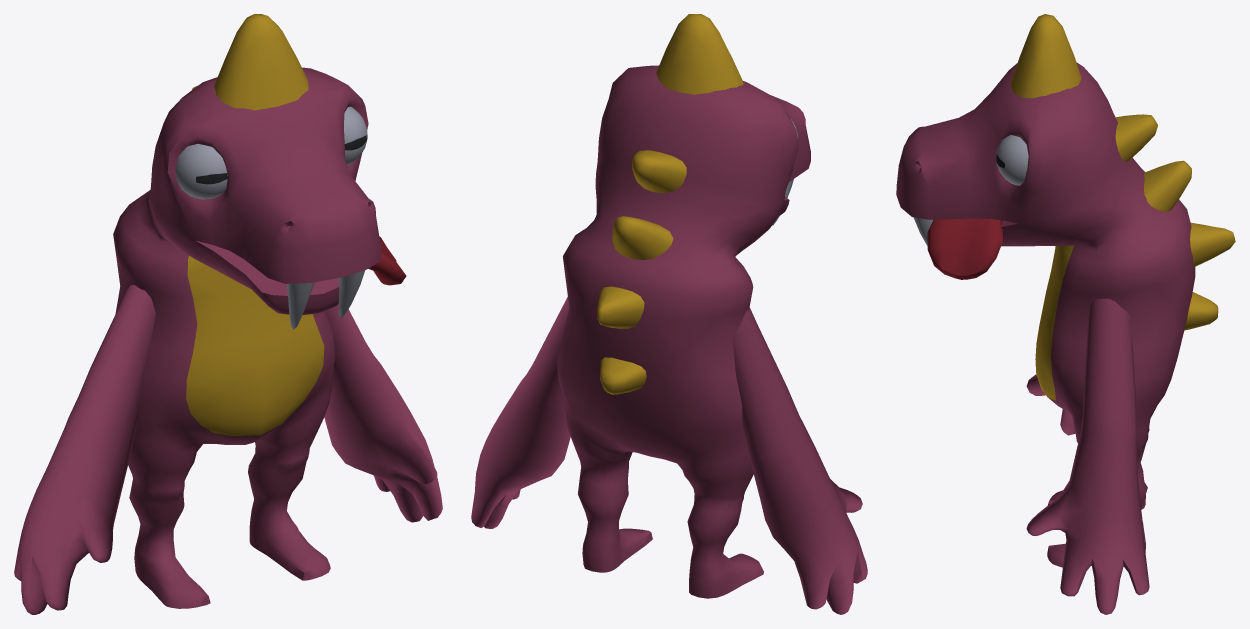
Rendered from Dino.glb.
3 renders of one model, left to right at view 1: azimuth 30°, elevation 25°; view 2: azimuth 150°, elevation 25°; view 3: azimuth 270°, elevation 25°, orthographic. The views are drawn at different scales.
Visible parts, largest first — view 1: SK_Dino; view 2: SK_Dino; view 3: SK_Dino.
Boxes of the visible parts, box(x1,y1,x2,y2) form: SK_Dino: box(14, 14, 442, 614); SK_Dino: box(471, 14, 867, 614); SK_Dino: box(896, 14, 1235, 614).
Size of the model in its own units: 2.36 by 3.23 by 1.92.
Materials: 1 (1 with a texture image).
